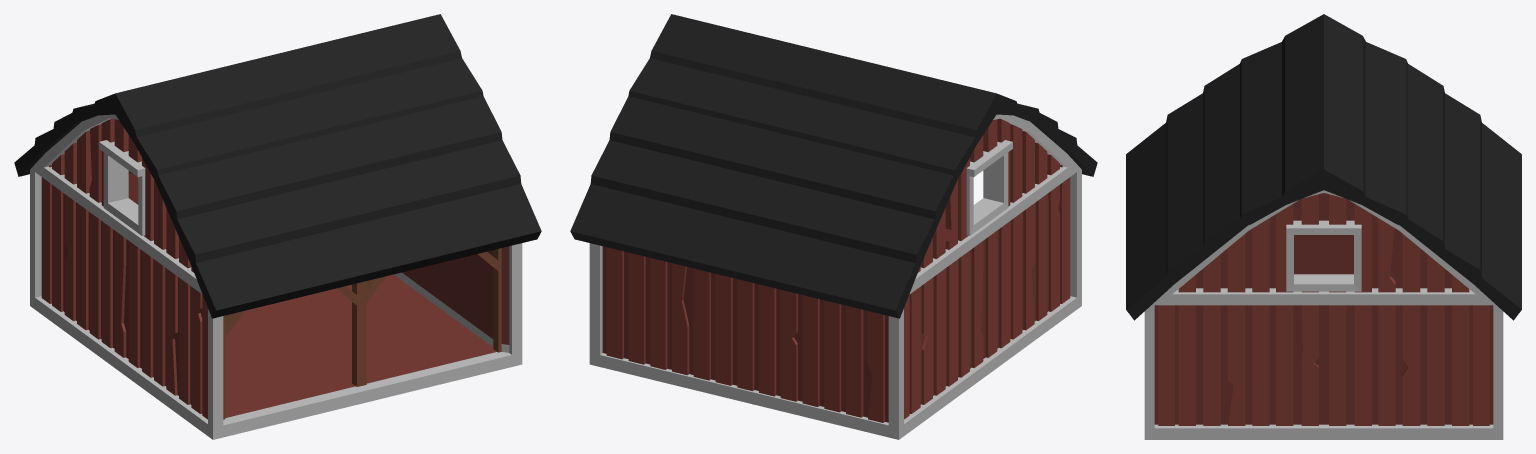
The model's file is OpenBarn.fbx.
3 renders of one model, left to right at view 1: azimuth 30°, elevation 25°; view 2: azimuth 150°, elevation 25°; view 3: azimuth 270°, elevation 25°, orthographic. The views are drawn at different scales.
Parts seen in each view (by area): view 1: OpenBarn; view 2: OpenBarn; view 3: OpenBarn.
Boxes of the visible parts, x1,y1,x2,y2 form: OpenBarn: [14, 14, 541, 439]; OpenBarn: [570, 14, 1097, 439]; OpenBarn: [1126, 14, 1521, 439].
Bounding box in the file's own units: 1006 × 831 × 1083.
